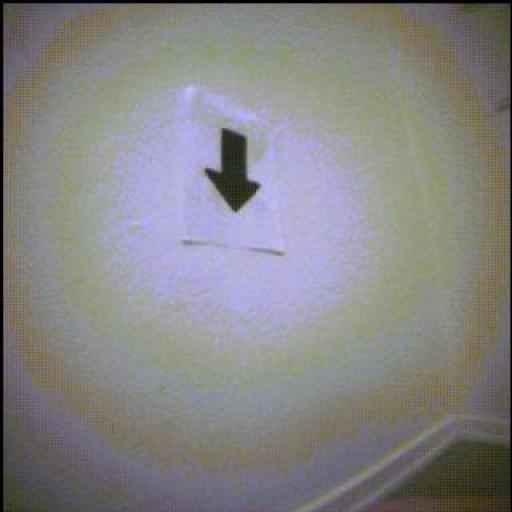arrow: (206, 129, 260, 212)
